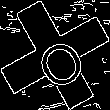O_NW: (23, 22, 87, 88)
